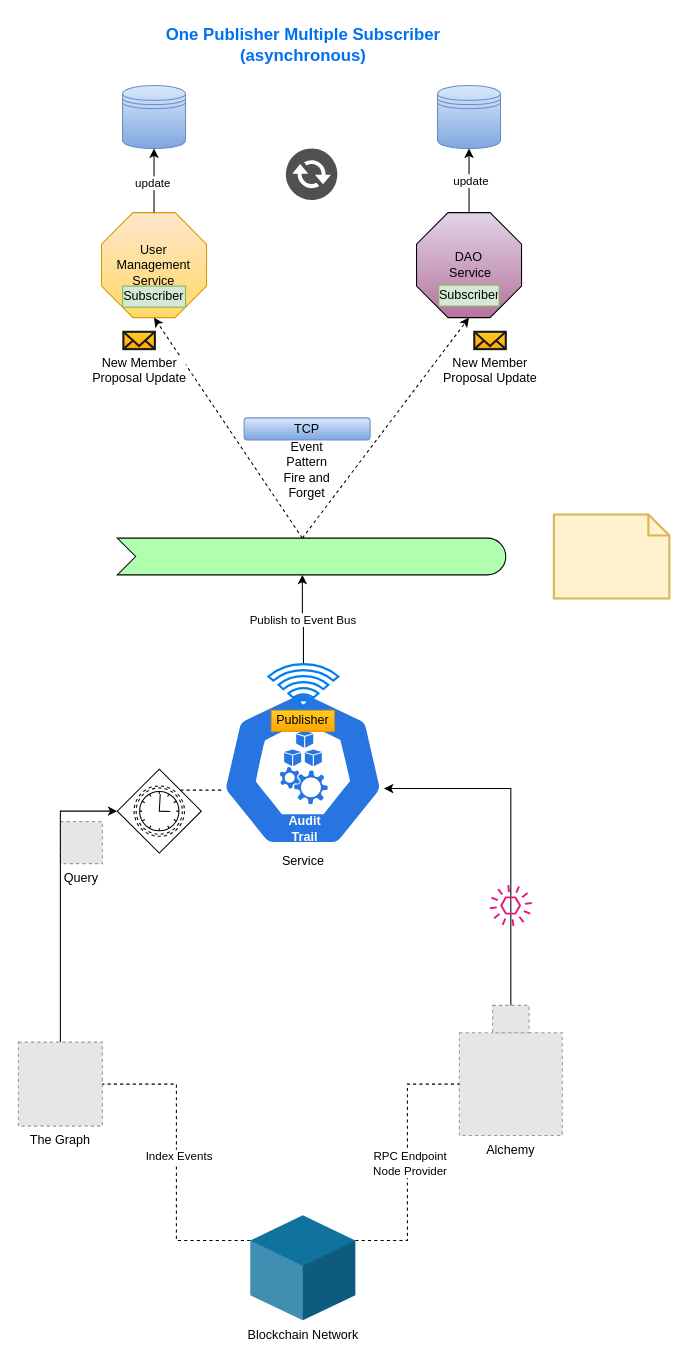
Some shapes in this 689 by 1360 pixel diagram are drawn without their labels. Grey dashed boxes stand in for pictures. Each missing label, with the centre of its shape:
"Background Task" belongs at (x=611, y=556).
"Cron Job" belongs at (x=158, y=810).
"DAO DB" belongs at (x=468, y=117).
"Event Bus (Publish Subscribe Channel)" belongs at (x=311, y=556).
"Real Time On-Chain Event Socket Call on Transaction Complete" belongs at (x=510, y=905).
"Sync Database per service" belongs at (x=311, y=174).
"User DB" belongs at (x=153, y=117).
